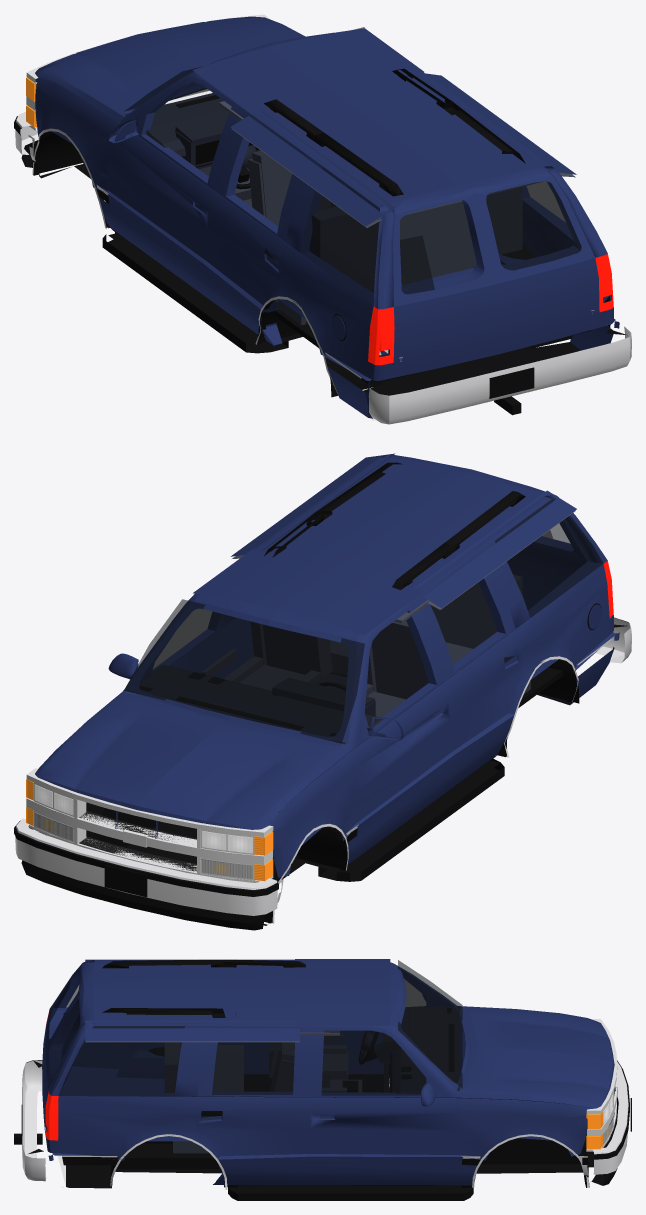
File: tahoe_body.glb
3 renders of one model, top to bottom at view 1: azimuth 30°, elevation 25°; view 2: azimuth 150°, elevation 25°; view 3: azimuth 270°, elevation 25°, orthographic. The views are drawn at different scales.
Parts seen in each view (by area): view 1: Body, Interior; view 2: Body, Interior; view 3: Body, Interior, SteeringWheel.
Part boxes in pixels (x1,y1,x2,y2): Body: [14, 14, 631, 424]; Interior: [125, 93, 590, 384]; Body: [14, 453, 631, 930]; Interior: [125, 574, 563, 744]; Body: [14, 959, 631, 1200]; Interior: [120, 1006, 459, 1162]; SteeringWheel: [358, 1030, 378, 1064].
Size of the model in its own units: 2.24 by 1.54 by 5.19.
Materials: 13 (4 with a texture image).
